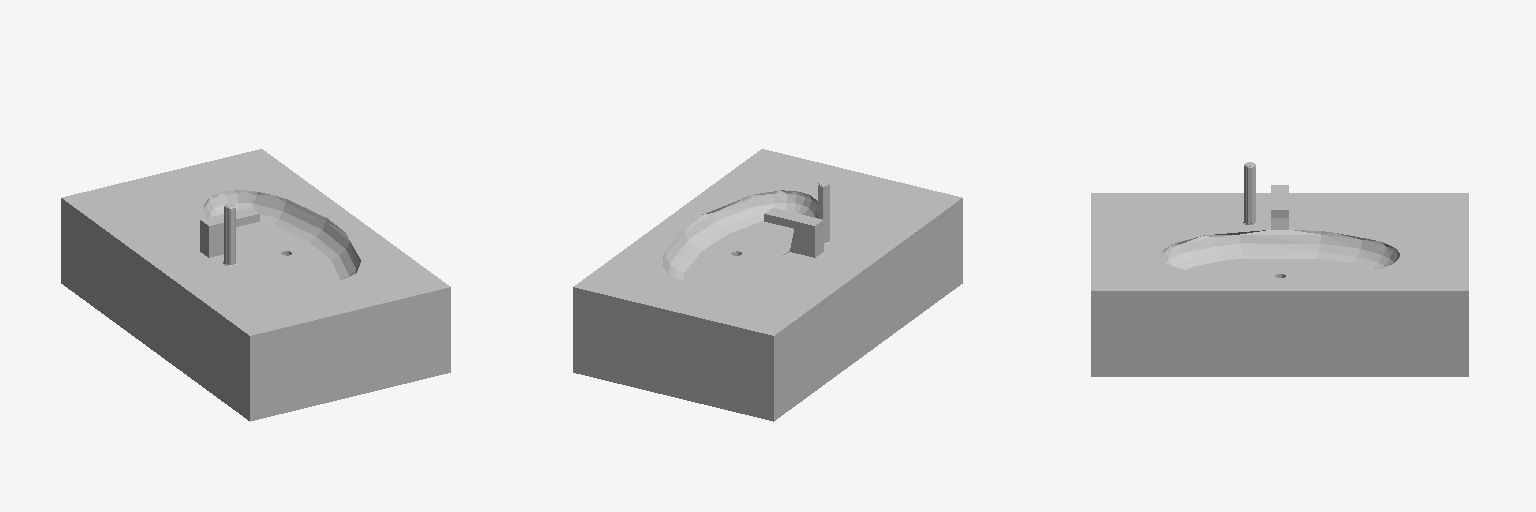
Rendered from piaaa.obj.
3 views of the same model, side by side, from view 1: azimuth 30°, elevation 25°; view 2: azimuth 150°, elevation 25°; view 3: azimuth 270°, elevation 25° (orthographic).
Visible parts, largest first — view 1: Pia; view 2: Pia; view 3: Pia.
Part boxes in pixels (bbox=[...]): Pia: bbox=[61, 149, 450, 421]; Pia: bbox=[573, 149, 962, 421]; Pia: bbox=[1091, 162, 1468, 376].
Size of the model in its own units: 0.27 by 0.185 by 0.44.